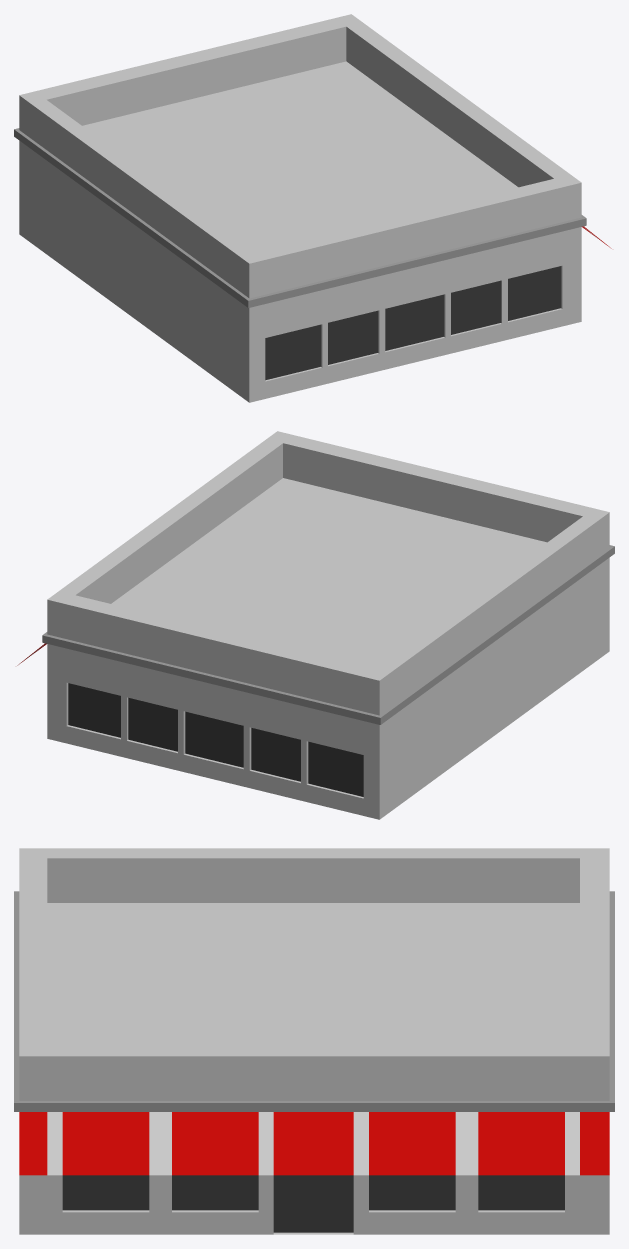
File: restaurant.fbx
The picture shows the model from 3 angles, top to bottom: view 1: azimuth 30°, elevation 25°; view 2: azimuth 150°, elevation 25°; view 3: azimuth 270°, elevation 25°; orthographic projection. The views are drawn at different scales.
Parts seen in each view (by area): view 1: Cube; view 2: Cube; view 3: Cube.
Boxes of the visible parts, x1,y1,x2,y2 form: Cube: (14,14,611,402); Cube: (17,431,614,819); Cube: (14,848,614,1234).
Bounding box in the file's own units: 11.09 × 4 × 12.22.
